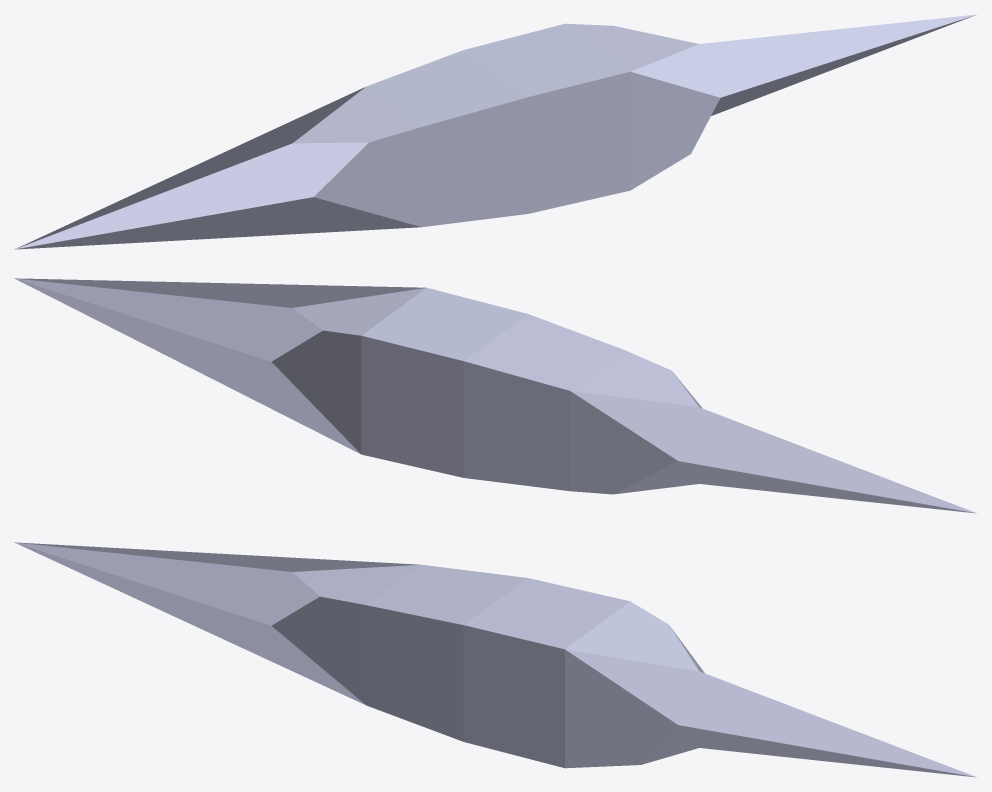
The model's file is Essence.fbx.
The picture shows the model from 3 angles, top to bottom: view 1: azimuth 30°, elevation 25°; view 2: azimuth 150°, elevation 25°; view 3: azimuth 330°, elevation 25°; orthographic projection.
Parts seen in each view (by area): view 1: Cube.002; view 2: Cube.002; view 3: Cube.002.
Part boxes in pixels (x1,y1,x2,y2): Cube.002: (14,14,977,249); Cube.002: (14,278,977,513); Cube.002: (14,542,977,777).
Bounding box in the file's own units: 395 × 46.55 × 46.55.
